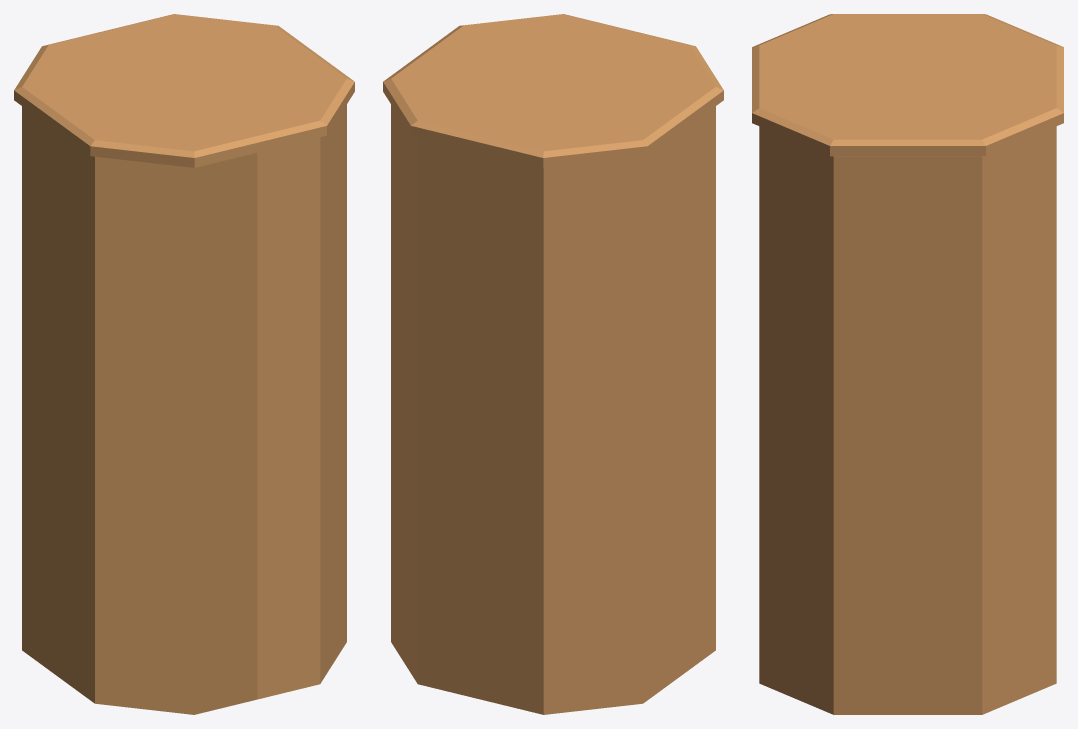
Rendered from Sand 2.fbx.
3 renders of one model, left to right at view 1: azimuth 30°, elevation 25°; view 2: azimuth 150°, elevation 25°; view 3: azimuth 270°, elevation 25°, orthographic. The views are drawn at different scales.
Visible parts, largest first — view 1: Sand_2; view 2: Sand_2; view 3: Sand_2.
Part boxes in pixels (box(x1,y1,x2,y2)): Sand_2: box(14, 14, 354, 714); Sand_2: box(383, 14, 723, 714); Sand_2: box(752, 14, 1063, 714).
Bounding box in the file's own units: 4.2 × 8.55 × 4.2.
